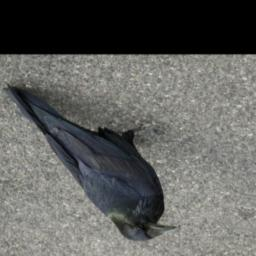Crow: (0, 82, 204, 247)
